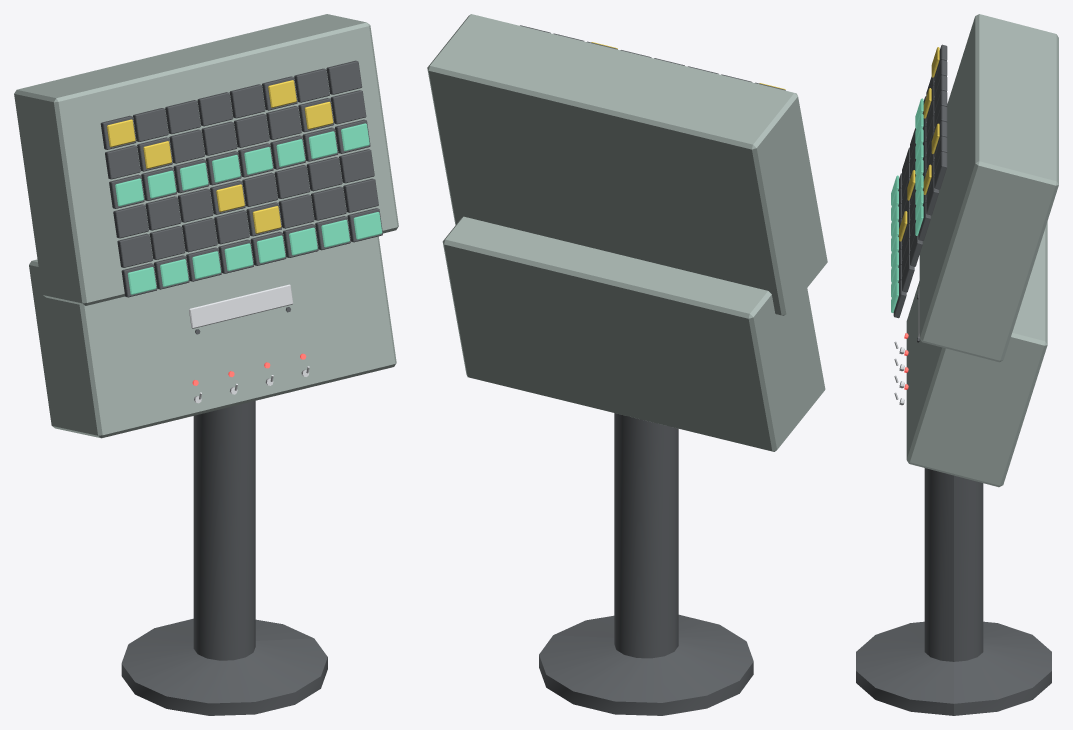
The model's file is nuclear-power-station-and-control-room-rod-position-di-53274eda__36913.glb.
The picture shows the model from 3 angles, left to right: view 1: azimuth 30°, elevation 25°; view 2: azimuth 150°, elevation 25°; view 3: azimuth 270°, elevation 25°; orthographic projection. The views are drawn at different scales.
Visible parts, largest first — view 1: rod-position-display; view 2: rod-position-display; view 3: rod-position-display.
Boxes of the visible parts, x1,y1,x2,y2 form: rod-position-display: (14,14,398,715); rod-position-display: (427,14,827,715); rod-position-display: (856,14,1058,715).
Bounding box in the file's own units: 1.06 × 1.93 × 0.6056.
